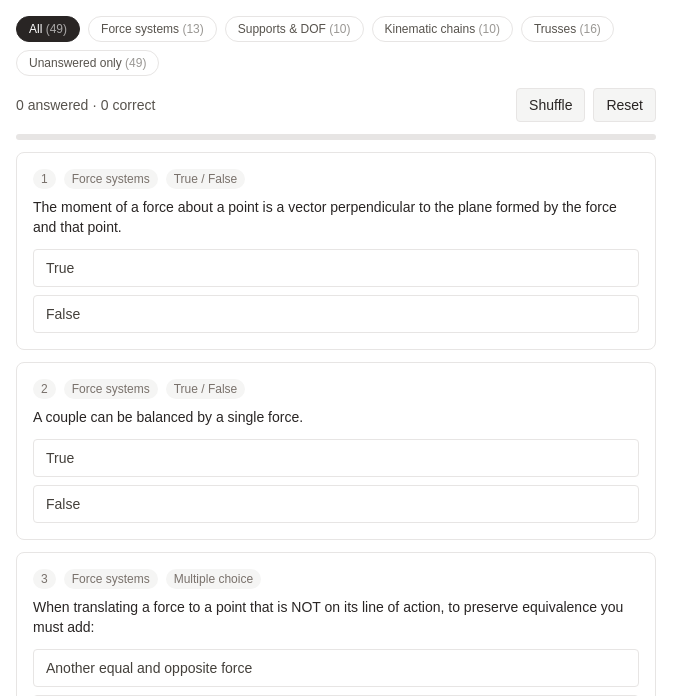
ClaudeQuiz › clicking the correct option shows the Correct verdict and increments the correct counter
Click the 1st button "True": (60, 268) [33,249,639,287]
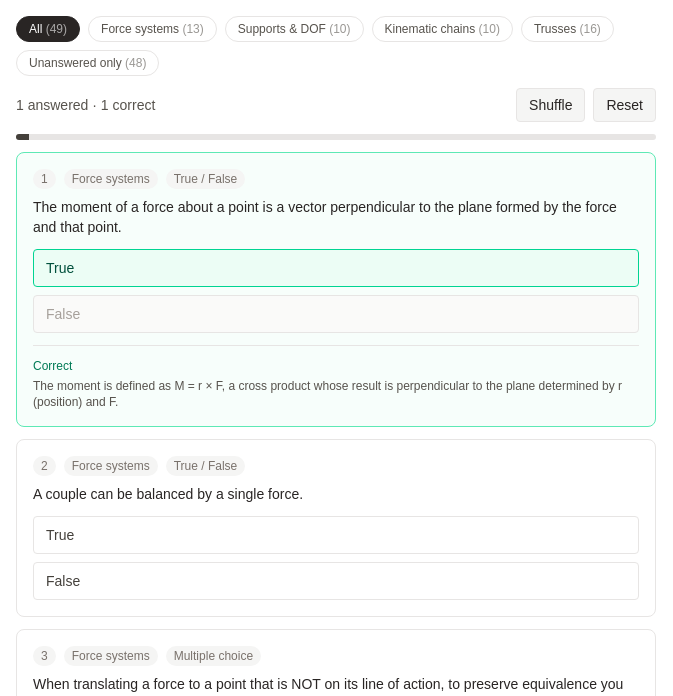
Check: the text "Correct" is shown, box [33,359,72,373]
Check: the text "1 answered · 1 correct" is shown, box [16,95,155,115]
